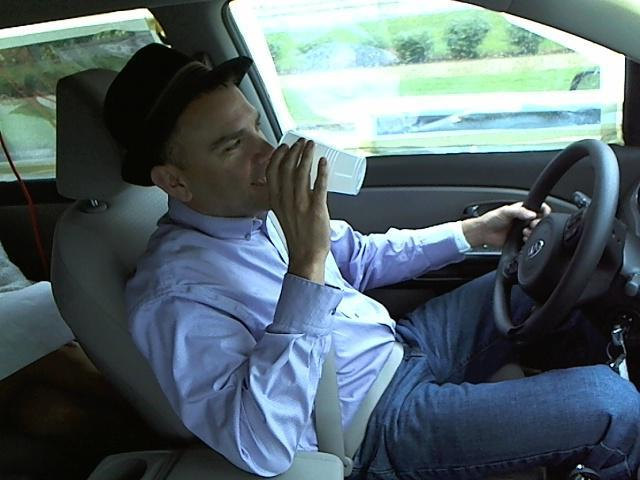Drinking: (272, 129, 368, 195)
